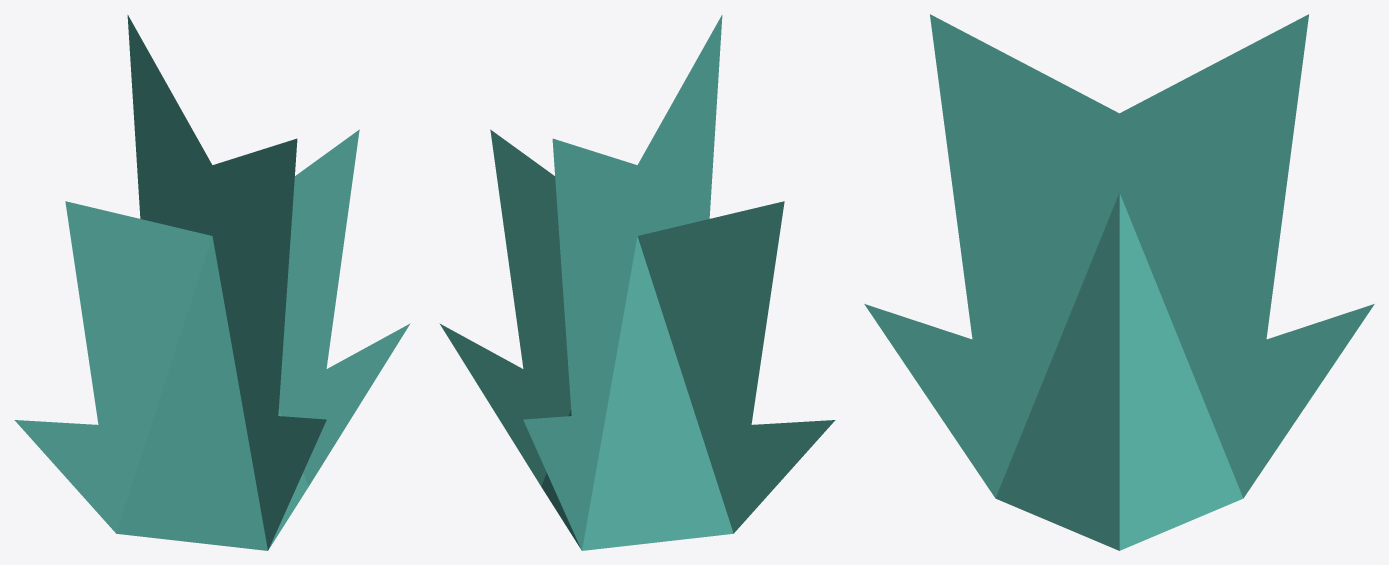
The model's file is plant_flatTall.glb.
3 views of the same model, side by side, from view 1: azimuth 30°, elevation 25°; view 2: azimuth 150°, elevation 25°; view 3: azimuth 270°, elevation 25° (orthographic). The views are drawn at different scales.
Parts seen in each view (by area): view 1: plant_flatTall; view 2: plant_flatTall; view 3: plant_flatTall.
Part boxes in pixels (x1,y1,x2,y2): plant_flatTall: (14, 15, 410, 550); plant_flatTall: (439, 15, 835, 550); plant_flatTall: (864, 14, 1374, 550).
Size of the model in its own units: 0.2717 by 0.2843 by 0.2717.
